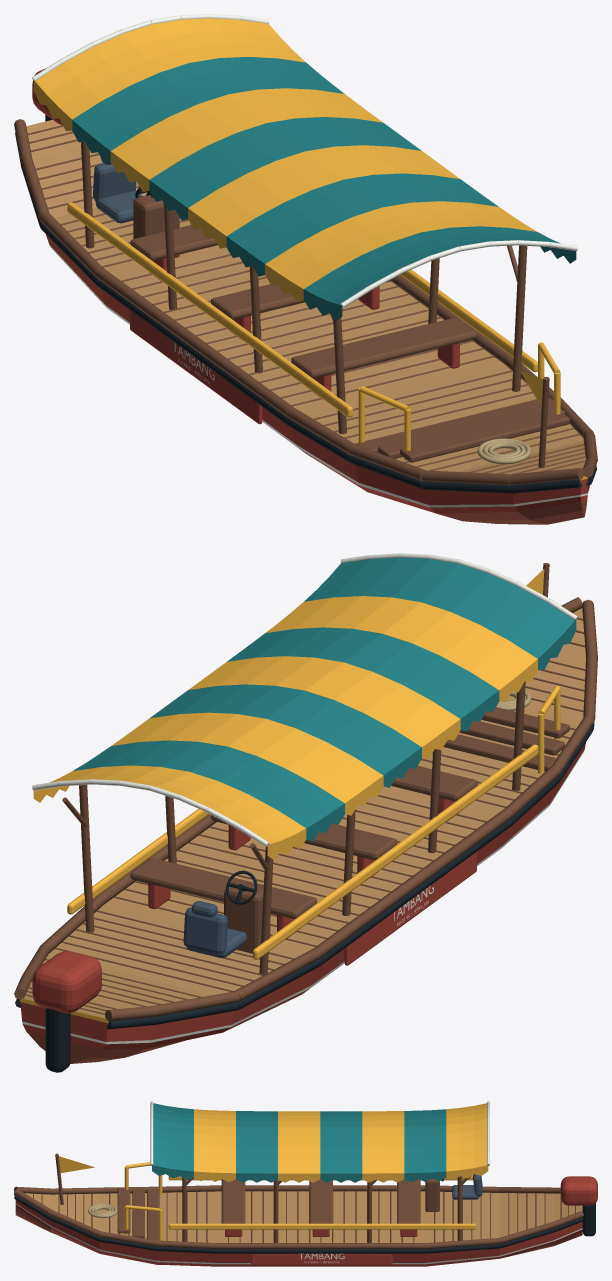
3 renders of one model, top to bottom at view 1: azimuth 30°, elevation 25°; view 2: azimuth 150°, elevation 25°; view 3: azimuth 270°, elevation 25°, orthographic. The views are drawn at different scales.
Visible parts, largest first — view 1: Sarawak Tambang River Taxi; view 2: Sarawak Tambang River Taxi; view 3: Sarawak Tambang River Taxi.
Part boxes in pixels (x1,y1,x2,y2): Sarawak Tambang River Taxi: (14, 14, 597, 524); Sarawak Tambang River Taxi: (14, 553, 597, 1072); Sarawak Tambang River Taxi: (14, 1101, 597, 1266).
Size of the model in its own units: 2.24 by 2.33 by 8.8.
